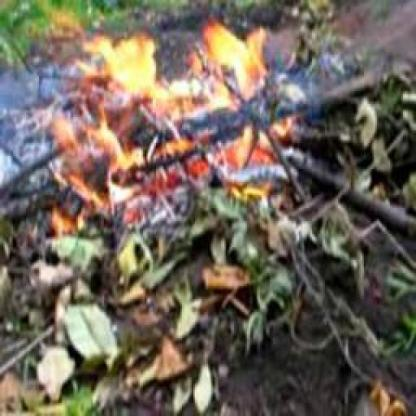fire: (41, 15, 300, 220)
